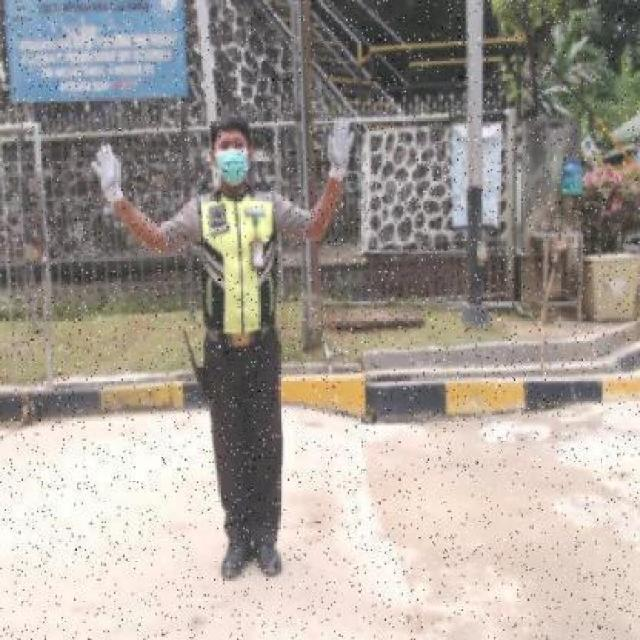Boots: (219, 539, 253, 583), (253, 540, 284, 582)
Gloves: (91, 141, 126, 208), (323, 115, 357, 182)
Mask: (217, 151, 248, 184)
